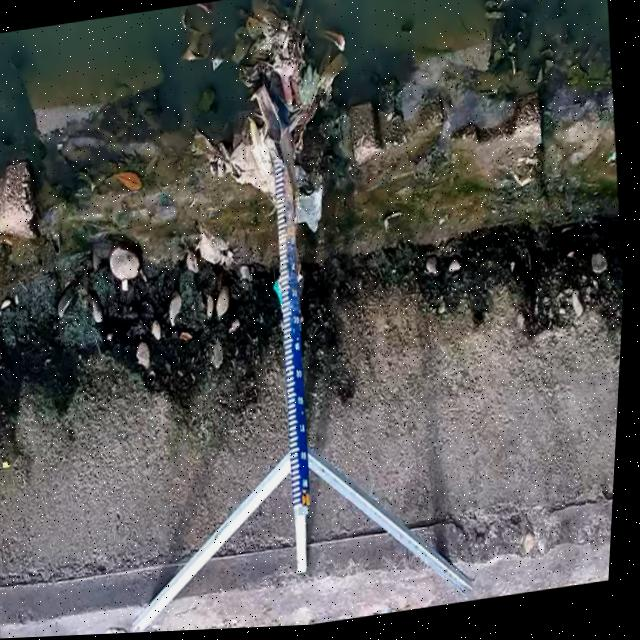water-meter: (245, 109, 334, 516)
